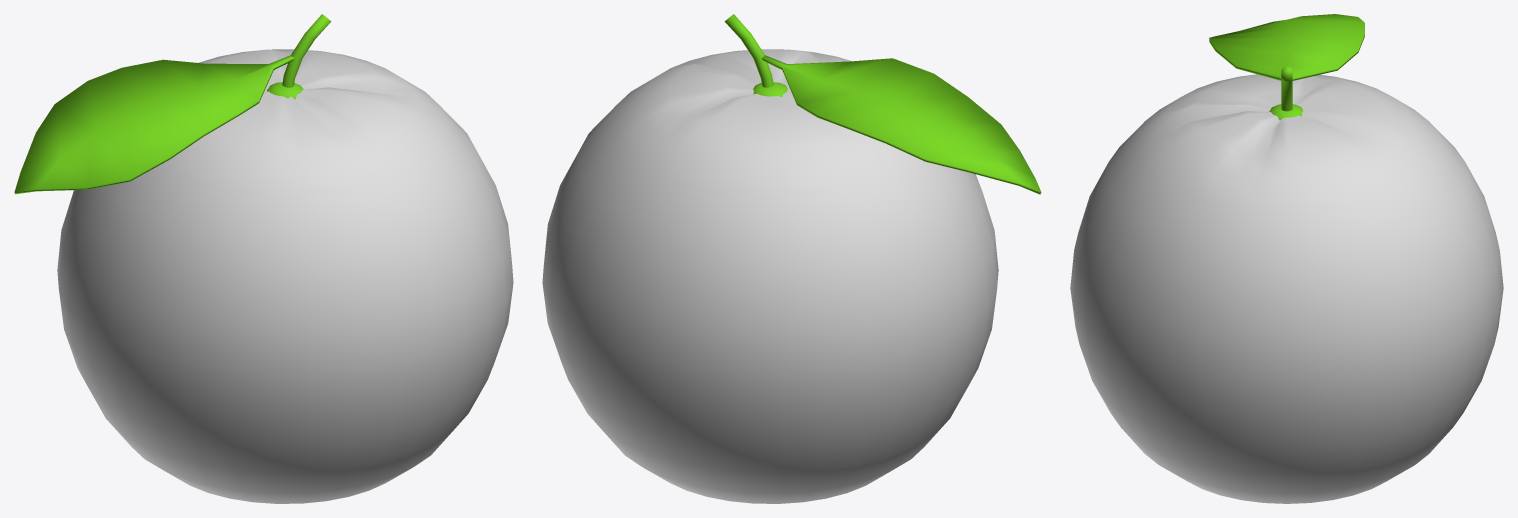
Rendered from Orange.fbx.
The picture shows the model from 3 angles, left to right: view 1: azimuth 30°, elevation 25°; view 2: azimuth 150°, elevation 25°; view 3: azimuth 270°, elevation 25°; orthographic projection. The views are drawn at different scales.
Parts seen in each view (by area): view 1: Orange, OrangePart, Stick; view 2: Orange, OrangePart, Stick; view 3: Orange, OrangePart, Stick.
Boxes of the visible parts, bbox=[...] form: Orange: bbox=[57, 49, 513, 503]; OrangePart: bbox=[14, 55, 294, 194]; Stick: bbox=[282, 14, 331, 87]; Orange: bbox=[542, 49, 998, 503]; OrangePart: bbox=[761, 55, 1041, 194]; Stick: bbox=[724, 14, 773, 87]; Orange: bbox=[1070, 74, 1503, 503]; OrangePart: bbox=[1209, 14, 1364, 80]; Stick: bbox=[1281, 66, 1292, 111].
Size of the model in its own units: 18.37 by 16.82 by 15.51.
